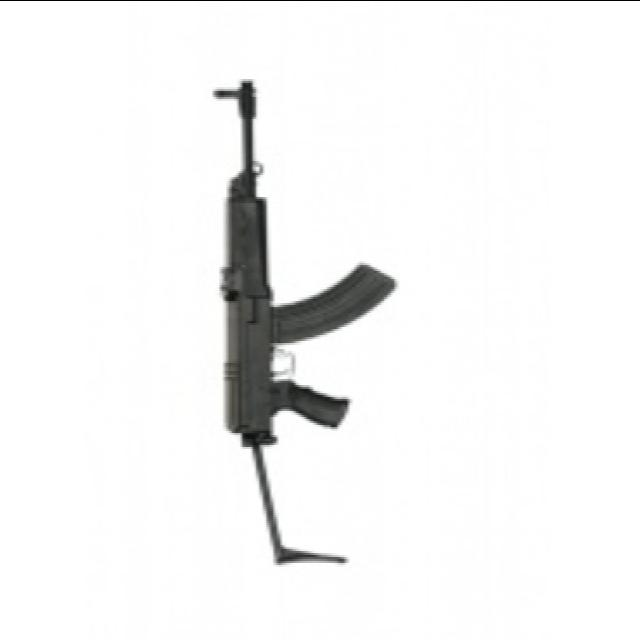rifle: (201, 71, 391, 585)
